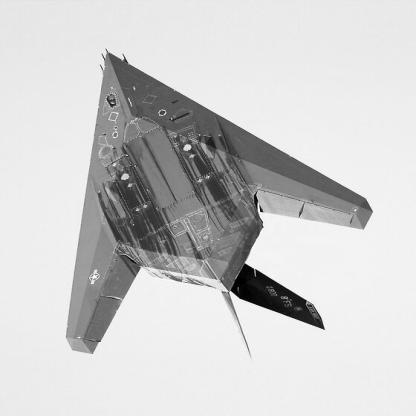F117: (66, 49, 374, 363)
